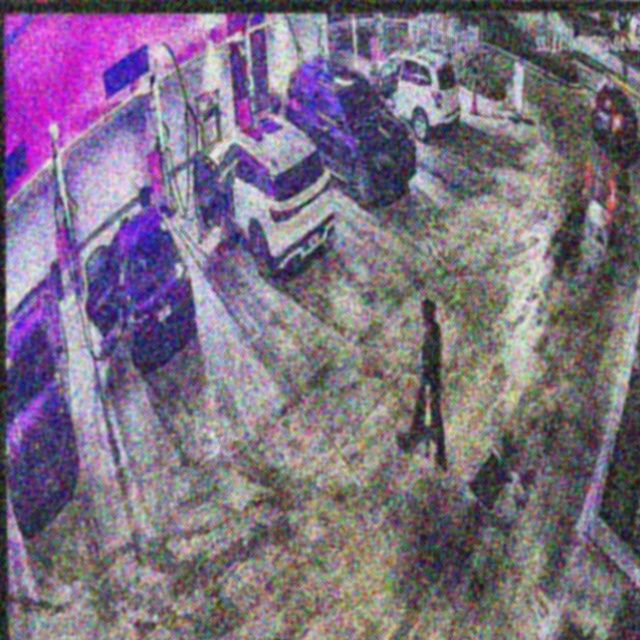Car: (192, 109, 333, 278), (281, 56, 413, 203), (89, 204, 193, 376)
